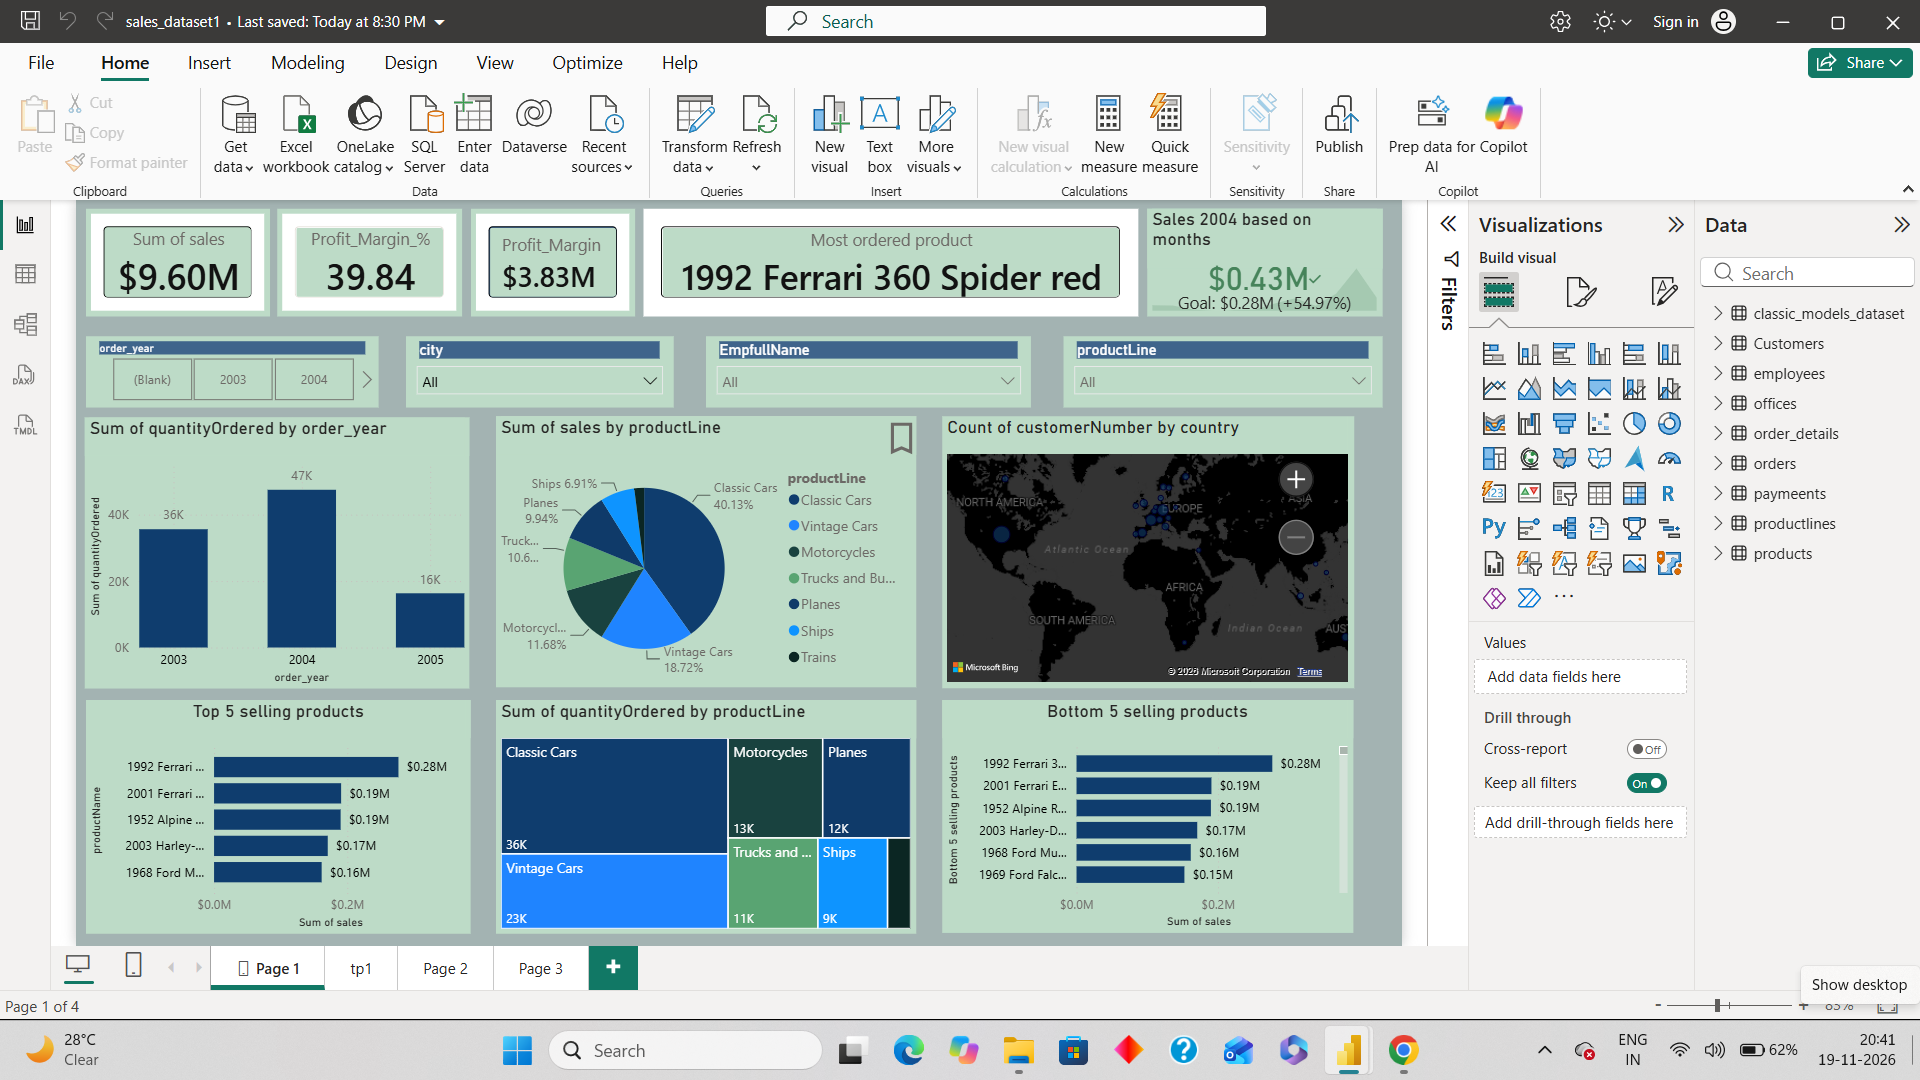

The dashboard page shown, as its layout file describes it:
{"tool":"powerbi","page":{"name":"Page 1","canvas":[1280,720],"ordinal":0},"visuals":[{"type":"barChart","title":"Top 5 selling products","fields":{"Category":["products.productName"],"Y":["Sum(order_details.sales)"]},"box":[9.7,482.6,371.6,225.6],"z":0},{"type":"pieChart","fields":{"Category":["productlines.productLine"],"Y":["Sum(order_details.sales)"]},"box":[405.4,208.7,405.4,261.8],"z":1000},{"type":"slicer","fields":{"Values":["orders.order_year"]},"box":[9.7,131.5,282.3,68.8],"z":2000},{"type":"kpi","title":"Sales 2004 based on months","fields":{"Goal":["orders.sales_2003"],"Indicator":["orders.sales_2004"],"TrendLine":["orders.Month Name"]},"box":[1033.9,8.4,226.8,103.8],"z":3000},{"type":"map","fields":{"Category":["Customers.country"],"Size":["CountNonNull(Customers.customerNumber)"]},"box":[835.7,208.6,396.6,262.1],"z":4000},{"type":"treemap","fields":{"Group":["productlines.productLine"],"Values":["Sum(order_details.quantityOrdered)"]},"box":[405.4,482.6,405.4,225.6],"z":5000},{"type":"clusteredColumnChart","fields":{"Category":["orders.order_year"],"Y":["Sum(order_details.quantityOrdered)"]},"box":[8.4,209.9,371.6,261.8],"z":6000},{"type":"cardVisual","title":"Profit Margin","fields":{"Data":["order_details.total_profit"]},"box":[381.2,8.4,158,103.8],"z":7000},{"type":"cardVisual","fields":{"Data":["order_details.MostOrderedProduct"]},"box":[547.7,8.4,477.8,103.8],"z":8000},{"type":"cardVisual","title":"Profit Margin","fields":{"Data":["classic_models_dataset.Profit_Margin_%"]},"box":[194.2,8.4,178.6,103.8],"z":9000},{"type":"cardVisual","title":"Profit Margin","fields":{"Data":["Sum(order_details.sales)"]},"box":[9.7,8.4,177.3,103.8],"z":10000},{"type":"slicer","fields":{"Values":["offices.city"]},"box":[318.5,131.5,258.2,68.8],"z":11000},{"type":"slicer","fields":{"Values":["employees.fullName"]},"box":[608,131.5,313.7,68.8],"z":12000},{"type":"slicer","fields":{"Values":["productlines.productLine"]},"box":[953.1,131.5,307.6,68.8],"z":13000},{"type":"barChart","title":" Bottom 5 selling products","fields":{"Category":["products.productName"],"Y":["Sum(order_details.sales)"]},"box":[835.7,483,396.6,225],"z":14000},{"type":"actionButton","box":[776.9,209.9,43.4,39.8],"z":15000}]}

Visuals, with their boxes on the page's 1280x720 design canvas (x1, y1, x2, y2). These are canvas units, not pixel positions in the 1920x1080 screenshot, which may show the page scaled, cropped or inside an application window:
"Top 5 selling products" barChart: (10, 483, 381, 708)
pieChart - productlines.productLine x Sum(order_details.sales): (405, 209, 811, 470)
slicer - orders.order_year: (10, 132, 292, 200)
"Sales 2004 based on months" kpi: (1034, 8, 1261, 112)
map - Customers.country x CountNonNull(Customers.customerNumber): (836, 209, 1232, 471)
treemap - productlines.productLine x Sum(order_details.quantityOrdered): (405, 483, 811, 708)
clusteredColumnChart - orders.order_year x Sum(order_details.quantityOrdered): (8, 210, 380, 472)
"Profit Margin" cardVisual: (381, 8, 539, 112)
cardVisual - order_details.MostOrderedProduct: (548, 8, 1026, 112)
"Profit Margin" cardVisual: (194, 8, 373, 112)
"Profit Margin" cardVisual: (10, 8, 187, 112)
slicer - offices.city: (318, 132, 577, 200)
slicer - employees.fullName: (608, 132, 922, 200)
slicer - productlines.productLine: (953, 132, 1261, 200)
" Bottom 5 selling products" barChart: (836, 483, 1232, 708)
actionButton: (777, 210, 820, 250)
